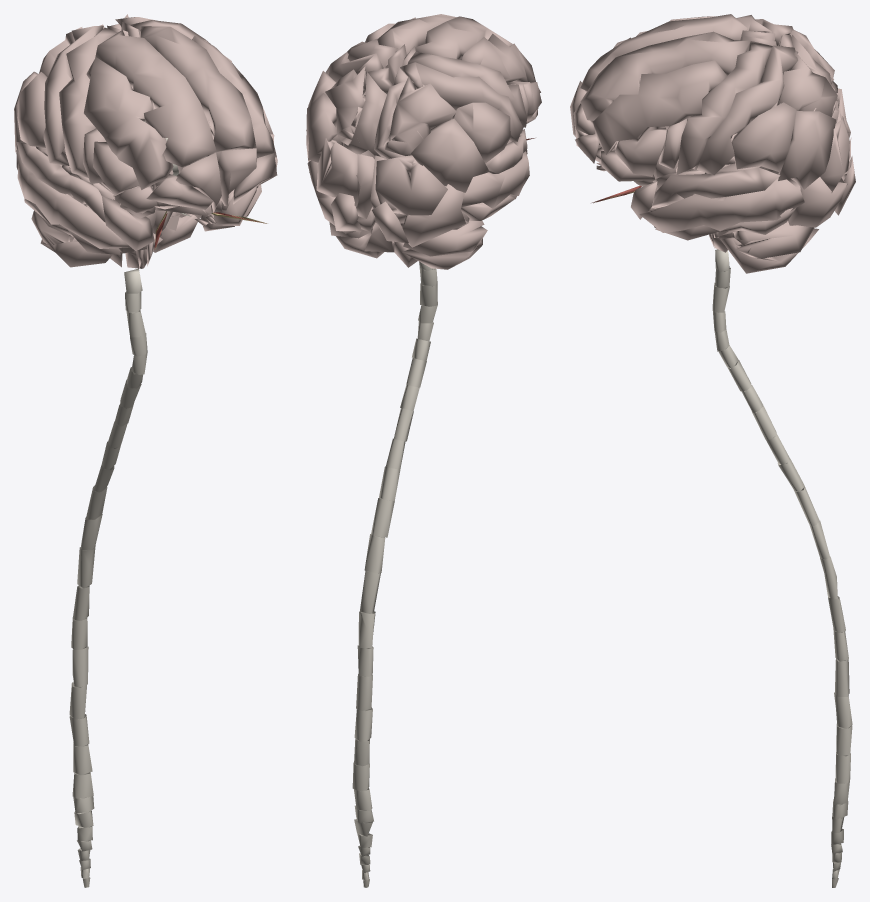
The model's file is adult_female.nervous.LOD4.glb.
3 renders of one model, left to right at view 1: azimuth 30°, elevation 25°; view 2: azimuth 150°, elevation 25°; view 3: azimuth 270°, elevation 25°, orthographic. The views are drawn at different scales.
Parts seen in each view (by area): view 1: ADULT.FEMALE.NERVOUS.SUPERIOR_FRONTAL_GYRUS.R, ADULT.FEMALE.NERVOUS.MIDDLE_FRONTAL_GYRUS.R, ADULT.FEMALE.NERVOUS.SUPERIOR_FRONTAL_GYRUS.L, ADULT.FEMALE.NERVOUS.PRECENTRAL_GYRUS.R, ADULT.FEMALE.NERVOUS.MIDDLE_TEMPORAL_GYRUS.R, ADULT.FEMALE.NERVOUS.POSTCENTRAL_GYRUS.R, ADULT.FEMALE.NERVOUS.SUPERIOR_TEMPORAL_GYRUS.R, ADULT.FEMALE.NERVOUS.MIDDLE_FRONTAL_GYRUS.L, ADULT.FEMALE.NERVOUS.SUPRAMARGINAL_GYRUS.R, ADULT.FEMALE.NERVOUS.LATERAL_HEMISPHERE_OF_CEREBELLUM.R, ADULT.FEMALE.NERVOUS.TEMPORAL_POLE.R, ADULT.FEMALE.NERVOUS.INFERIOR_FRONTAL_GYRUS_TRIANGULAR_PART. (+13 smaller); view 2: ADULT.FEMALE.NERVOUS.ANGULAR_GYRUS.R, ADULT.FEMALE.NERVOUS.SUPERIOR_OCCIPITAL_GYRUS.R, ADULT.FEMALE.NERVOUS.SUPRAPARIETAL_LOBULE.R, ADULT.FEMALE.NERVOUS.POSTCENTRAL_GYRUS.R, ADULT.FEMALE.NERVOUS.LATERAL_HEMISPHERE_OF_CEREBELLUM.R, ADULT.FEMALE.NERVOUS.SUPRAMARGINAL_GYRUS.R, ADULT.FEMALE.NERVOUS.SUPERIOR_FRONTAL_GYRUS.R, ADULT.FEMALE.NERVOUS.SUPERIOR_OCCIPITAL_GYRUS.L, ADULT.FEMALE.NERVOUS.PRECENTRAL_GYRUS.R, ADULT.FEMALE.NERVOUS.INFERIOR_OCCIPITAL_GYRUS.R, ADULT.FEMALE.NERVOUS.MIDDLE_FRONTAL_GYRUS.R, ADULT.FEMALE.NERVOUS.MIDDLE_TEMPORAL_GYRUS.R (+23 smaller); view 3: ADULT.FEMALE.NERVOUS.MIDDLE_FRONTAL_GYRUS.L, ADULT.FEMALE.NERVOUS.SUPERIOR_FRONTAL_GYRUS.L, ADULT.FEMALE.NERVOUS.MIDDLE_TEMPORAL_GYRUS.L, ADULT.FEMALE.NERVOUS.POSTCENTRAL_GYRUS.L, ADULT.FEMALE.NERVOUS.PRECENTRAL_GYRUS.L, ADULT.FEMALE.NERVOUS.SUPRAMARGINAL_GYRUS.L, ADULT.FEMALE.NERVOUS.ANGULAR_GYRUS.L, ADULT.FEMALE.NERVOUS.LATERAL_HEMISPHERE_OF_CEREBELLUM.L, ADULT.FEMALE.NERVOUS.SUPERIOR_TEMPORAL_GYRUS.L, ADULT.FEMALE.NERVOUS.SUPERIOR_FRONTAL_GYRUS.R, ADULT.FEMALE.NERVOUS.SUPRAPARIETAL_LOBULE.L, ADULT.FEMALE.NERVOUS.INFERIOR_OCCIPITAL_GYRUS.L (+6 smaller).
Boxes of the visible parts, left/top/right/bottom form: ADULT.FEMALE.NERVOUS.SUPERIOR_FRONTAL_GYRUS.R: left=95, top=30, right=216, bottom=167; ADULT.FEMALE.NERVOUS.MIDDLE_FRONTAL_GYRUS.R: left=84, top=57, right=173, bottom=189; ADULT.FEMALE.NERVOUS.SUPERIOR_FRONTAL_GYRUS.L: left=141, top=26, right=256, bottom=152; ADULT.FEMALE.NERVOUS.PRECENTRAL_GYRUS.R: left=59, top=27, right=117, bottom=177; ADULT.FEMALE.NERVOUS.MIDDLE_TEMPORAL_GYRUS.R: left=16, top=149, right=130, bottom=248; ADULT.FEMALE.NERVOUS.POSTCENTRAL_GYRUS.R: left=43, top=25, right=103, bottom=165; ADULT.FEMALE.NERVOUS.SUPERIOR_TEMPORAL_GYRUS.R: left=16, top=142, right=105, bottom=222; ADULT.FEMALE.NERVOUS.MIDDLE_FRONTAL_GYRUS.L: left=192, top=35, right=276, bottom=157; ADULT.FEMALE.NERVOUS.SUPRAMARGINAL_GYRUS.R: left=17, top=72, right=47, bottom=147; ADULT.FEMALE.NERVOUS.LATERAL_HEMISPHERE_OF_CEREBELLUM.R: left=31, top=210, right=112, bottom=267; ADULT.FEMALE.NERVOUS.TEMPORAL_POLE.R: left=102, top=196, right=154, bottom=250; ADULT.FEMALE.NERVOUS.INFERIOR_FRONTAL_GYRUS_TRIANGULAR_PART.: left=93, top=141, right=139, bottom=195; ADULT.FEMALE.NERVOUS.ANGULAR_GYRUS.R: left=411, top=118, right=489, bottom=192; ADULT.FEMALE.NERVOUS.SUPERIOR_OCCIPITAL_GYRUS.R: left=375, top=155, right=447, bottom=215; ADULT.FEMALE.NERVOUS.SUPRAPARIETAL_LOBULE.R: left=384, top=76, right=456, bottom=155; ADULT.FEMALE.NERVOUS.POSTCENTRAL_GYRUS.R: left=400, top=62, right=522, bottom=141; ADULT.FEMALE.NERVOUS.LATERAL_HEMISPHERE_OF_CEREBELLUM.R: left=402, top=220, right=487, bottom=269; ADULT.FEMALE.NERVOUS.SUPRAMARGINAL_GYRUS.R: left=450, top=102, right=510, bottom=163; ADULT.FEMALE.NERVOUS.SUPERIOR_FRONTAL_GYRUS.R: left=415, top=16, right=512, bottom=59; ADULT.FEMALE.NERVOUS.SUPERIOR_OCCIPITAL_GYRUS.L: left=316, top=138, right=360, bottom=206; ADULT.FEMALE.NERVOUS.PRECENTRAL_GYRUS.R: left=407, top=52, right=527, bottom=133; ADULT.FEMALE.NERVOUS.INFERIOR_OCCIPITAL_GYRUS.R: left=402, top=184, right=465, bottom=247; ADULT.FEMALE.NERVOUS.MIDDLE_FRONTAL_GYRUS.R: left=460, top=33, right=535, bottom=83; ADULT.FEMALE.NERVOUS.MIDDLE_TEMPORAL_GYRUS.R: left=461, top=151, right=529, bottom=208; ADULT.FEMALE.NERVOUS.MIDDLE_FRONTAL_GYRUS.L: left=593, top=60, right=726, bottom=154; ADULT.FEMALE.NERVOUS.SUPERIOR_FRONTAL_GYRUS.L: left=580, top=31, right=750, bottom=120; ADULT.FEMALE.NERVOUS.MIDDLE_TEMPORAL_GYRUS.L: left=639, top=173, right=804, bottom=232; ADULT.FEMALE.NERVOUS.POSTCENTRAL_GYRUS.L: left=697, top=45, right=797, bottom=175; ADULT.FEMALE.NERVOUS.PRECENTRAL_GYRUS.L: left=676, top=41, right=772, bottom=174; ADULT.FEMALE.NERVOUS.SUPRAMARGINAL_GYRUS.L: left=732, top=102, right=796, bottom=172; ADULT.FEMALE.NERVOUS.ANGULAR_GYRUS.L: left=778, top=111, right=835, bottom=189; ADULT.FEMALE.NERVOUS.LATERAL_HEMISPHERE_OF_CEREBELLUM.L: left=718, top=221, right=818, bottom=273; ADULT.FEMALE.NERVOUS.SUPERIOR_TEMPORAL_GYRUS.L: left=651, top=166, right=780, bottom=208; ADULT.FEMALE.NERVOUS.SUPERIOR_FRONTAL_GYRUS.R: left=580, top=14, right=747, bottom=90; ADULT.FEMALE.NERVOUS.SUPRAPARIETAL_LOBULE.L: left=775, top=51, right=837, bottom=116; ADULT.FEMALE.NERVOUS.INFERIOR_OCCIPITAL_GYRUS.L: left=789, top=177, right=846, bottom=227.
Bounding box in the file's own units: 0.1349 × 0.5545 × 0.1674.
